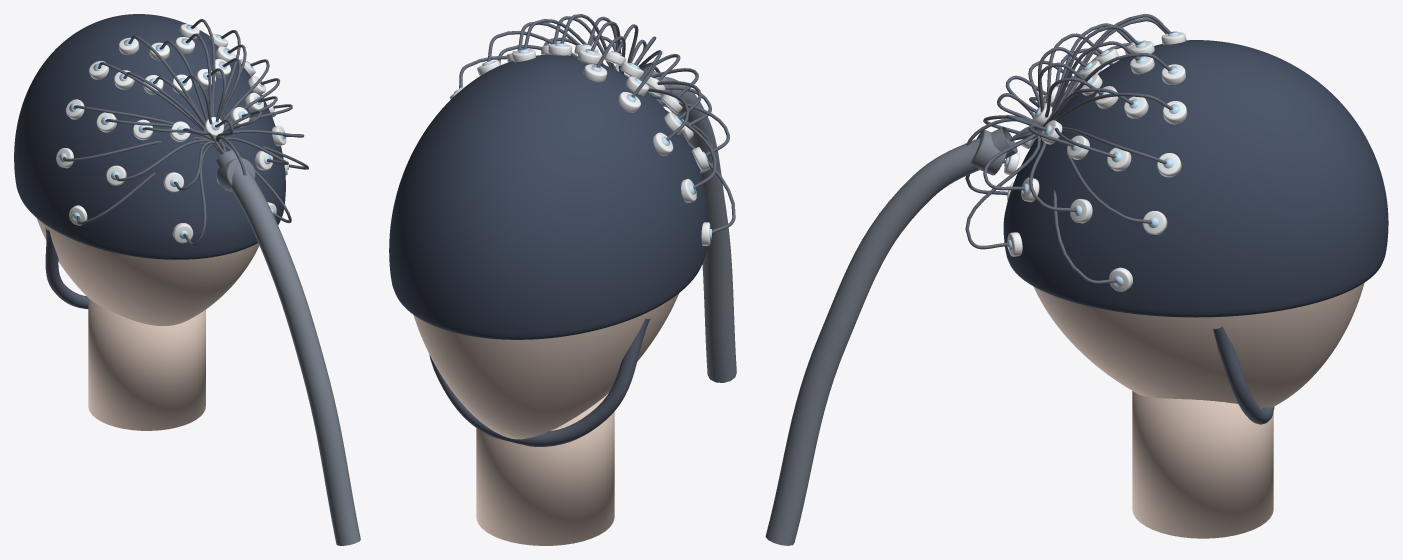
The model's file is cap.glb.
3 views of the same model, side by side, from view 1: azimuth 30°, elevation 25°; view 2: azimuth 150°, elevation 25°; view 3: azimuth 270°, elevation 25° (orthographic). The views are drawn at different scales.
Parts seen in each view (by area): view 1: EEGCap; view 2: EEGCap; view 3: EEGCap.
Boxes of the visible parts, x1,y1,x2,y2 form: EEGCap: (14,14,360,545); EEGCap: (389,14,736,545); EEGCap: (765,14,1388,545).
Size of the model in its own units: 0.1786 by 0.3085 by 0.352.
